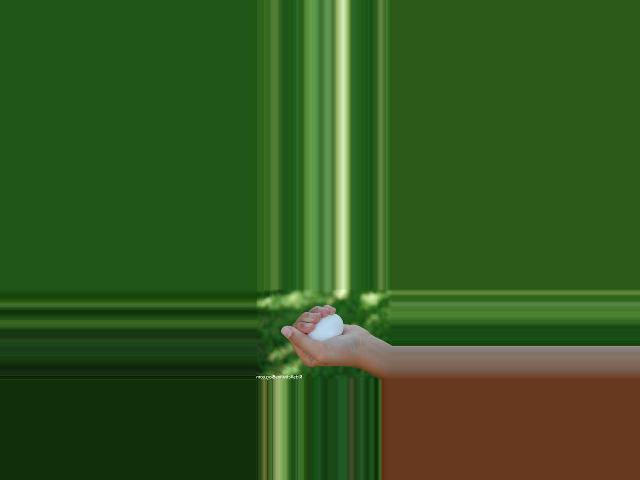egg: (306, 314, 343, 340)
